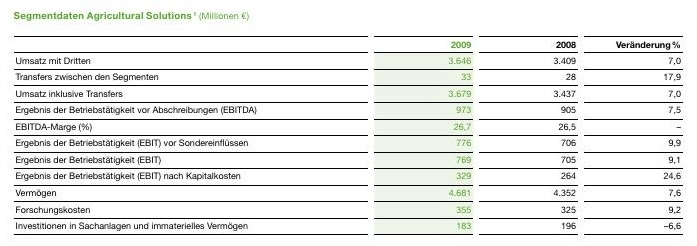table: (0, 0, 697, 246)
